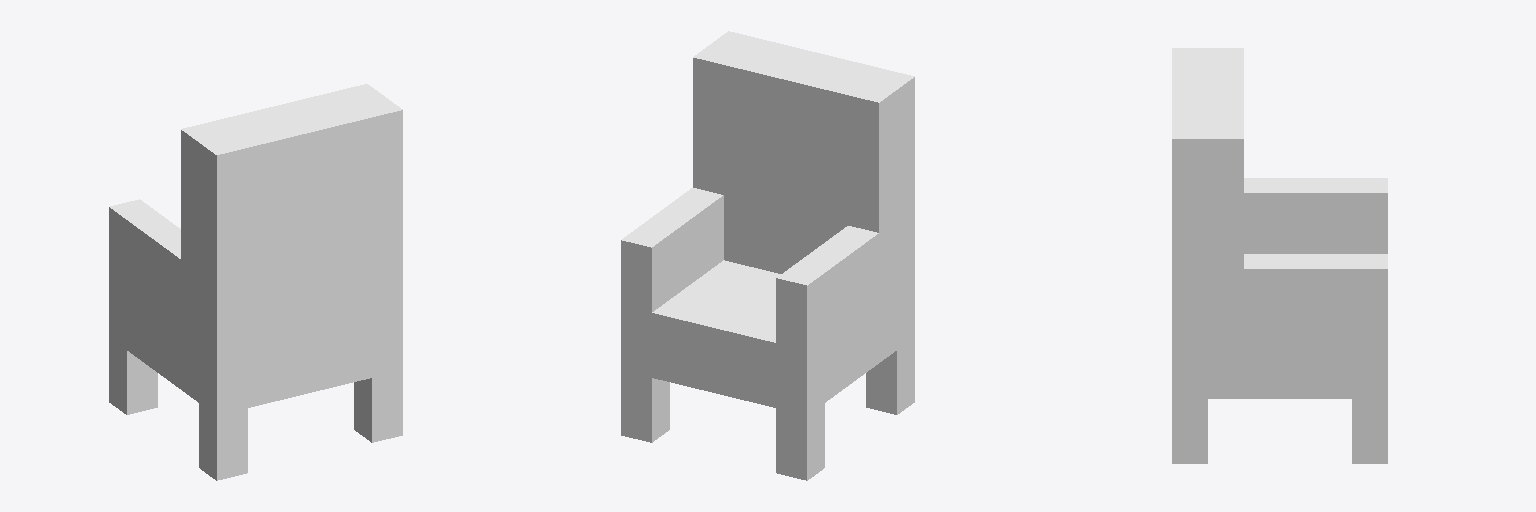
Rendered from Throne-Blue.obj.
3 views of the same model, side by side, from view 1: azimuth 30°, elevation 25°; view 2: azimuth 150°, elevation 25°; view 3: azimuth 270°, elevation 25° (orthographic).
Parts seen in each view (by area): view 1: throne-roomobj; view 2: throne-roomobj; view 3: throne-roomobj.
Part boxes in pixels (bbox=[...]): throne-roomobj: bbox=[109, 84, 402, 480]; throne-roomobj: bbox=[621, 31, 914, 480]; throne-roomobj: bbox=[1172, 48, 1387, 463].
Bounding box in the file's own units: 0.6 × 1 × 0.6.